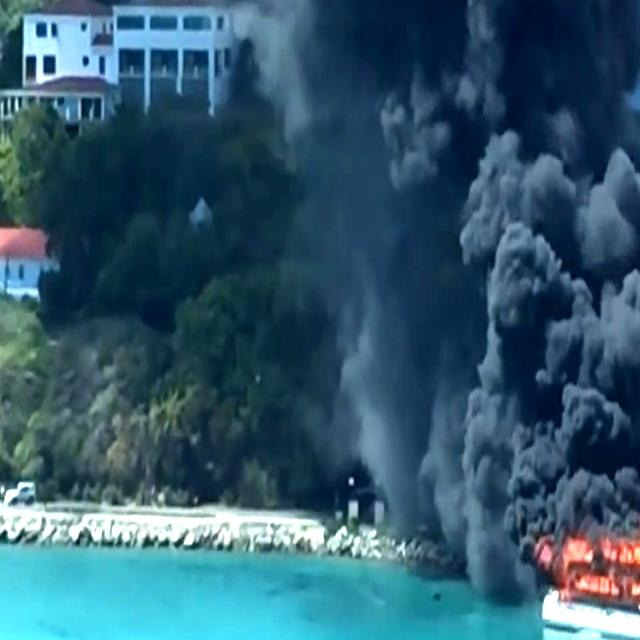smoke: (322, 0, 575, 391)
